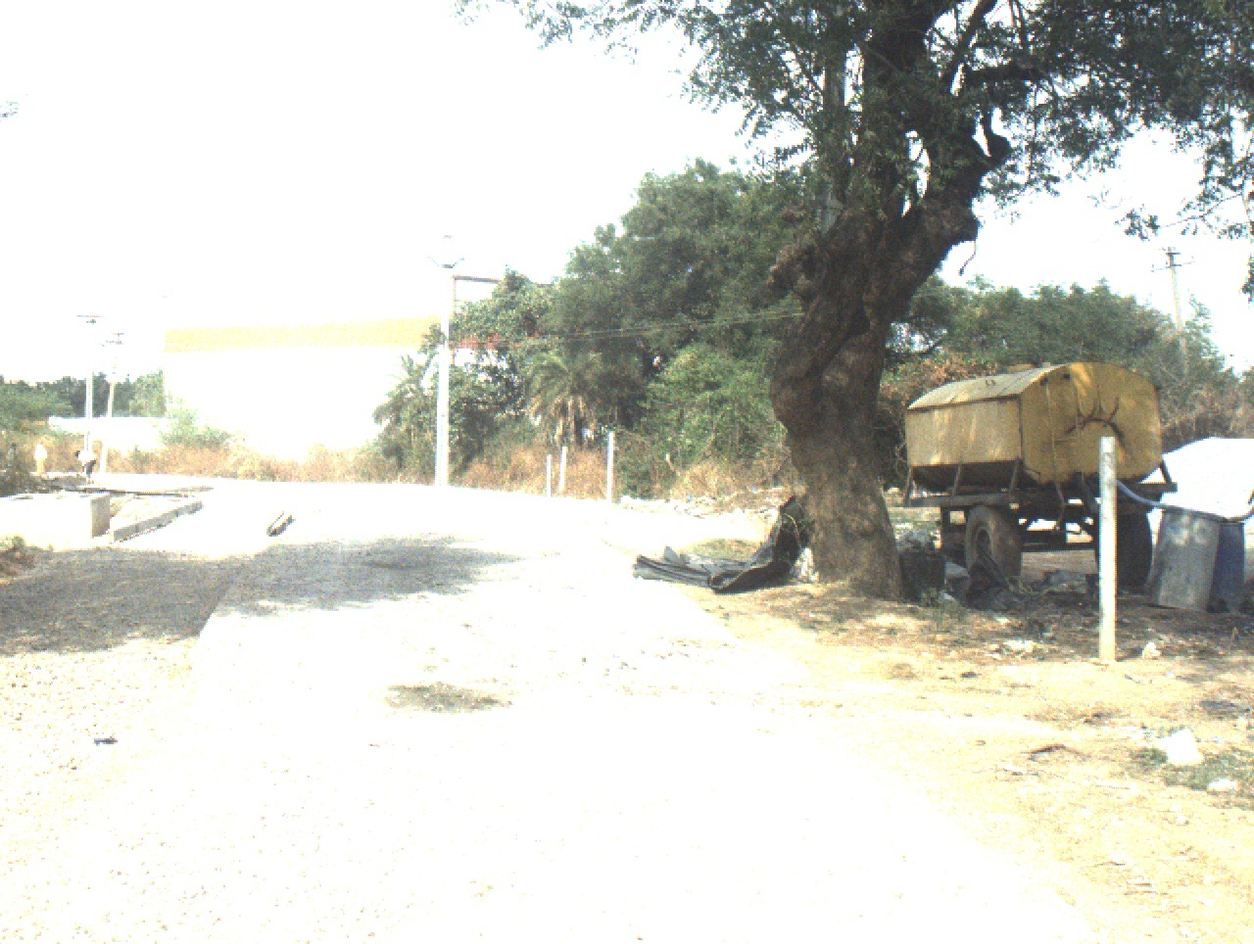person: (65, 448, 99, 485)
vehicle fallback: (906, 371, 1182, 589)
